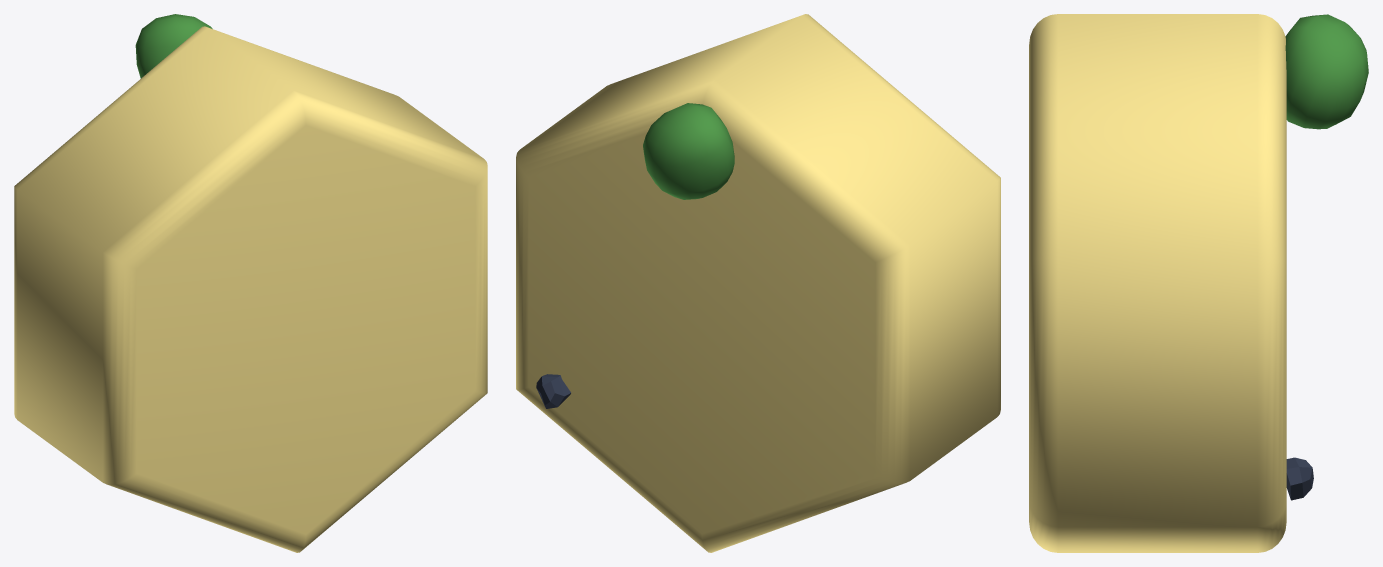
The model's file is SandTile3.fbx.
3 renders of one model, left to right at view 1: azimuth 30°, elevation 25°; view 2: azimuth 150°, elevation 25°; view 3: azimuth 270°, elevation 25°, orthographic. The views are drawn at different scales.
Visible parts, largest first — view 1: Circle.018; view 2: Circle.018; view 3: Circle.018.
Boxes of the visible parts, bbox=[...] form: Circle.018: bbox=[14, 14, 487, 552]; Circle.018: bbox=[516, 14, 1000, 552]; Circle.018: bbox=[1029, 14, 1368, 552].
Bounding box in the file's own units: 200 × 231 × 132.
